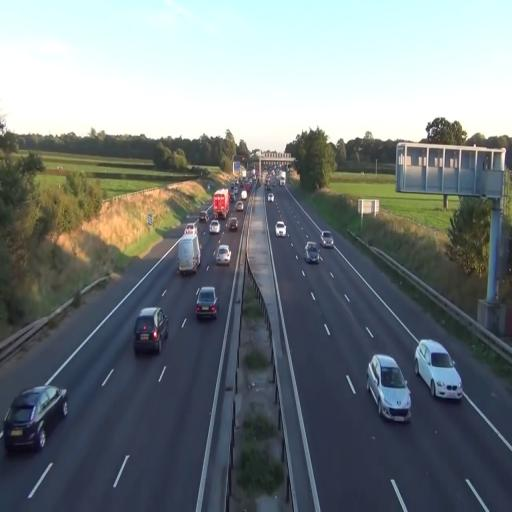vehicle: (2, 384, 68, 454), (366, 353, 412, 423), (414, 338, 464, 400), (134, 306, 169, 354), (133, 310, 162, 356), (177, 234, 200, 276), (195, 286, 218, 321), (212, 188, 230, 218), (226, 206, 242, 233), (305, 240, 321, 264), (215, 242, 231, 264), (226, 214, 240, 233), (208, 218, 222, 236), (276, 219, 287, 238), (321, 231, 333, 248)
